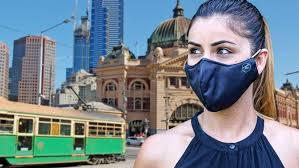with-mask: (178, 4, 271, 115)
